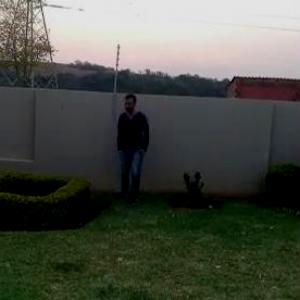follow: (115, 87, 152, 211)
